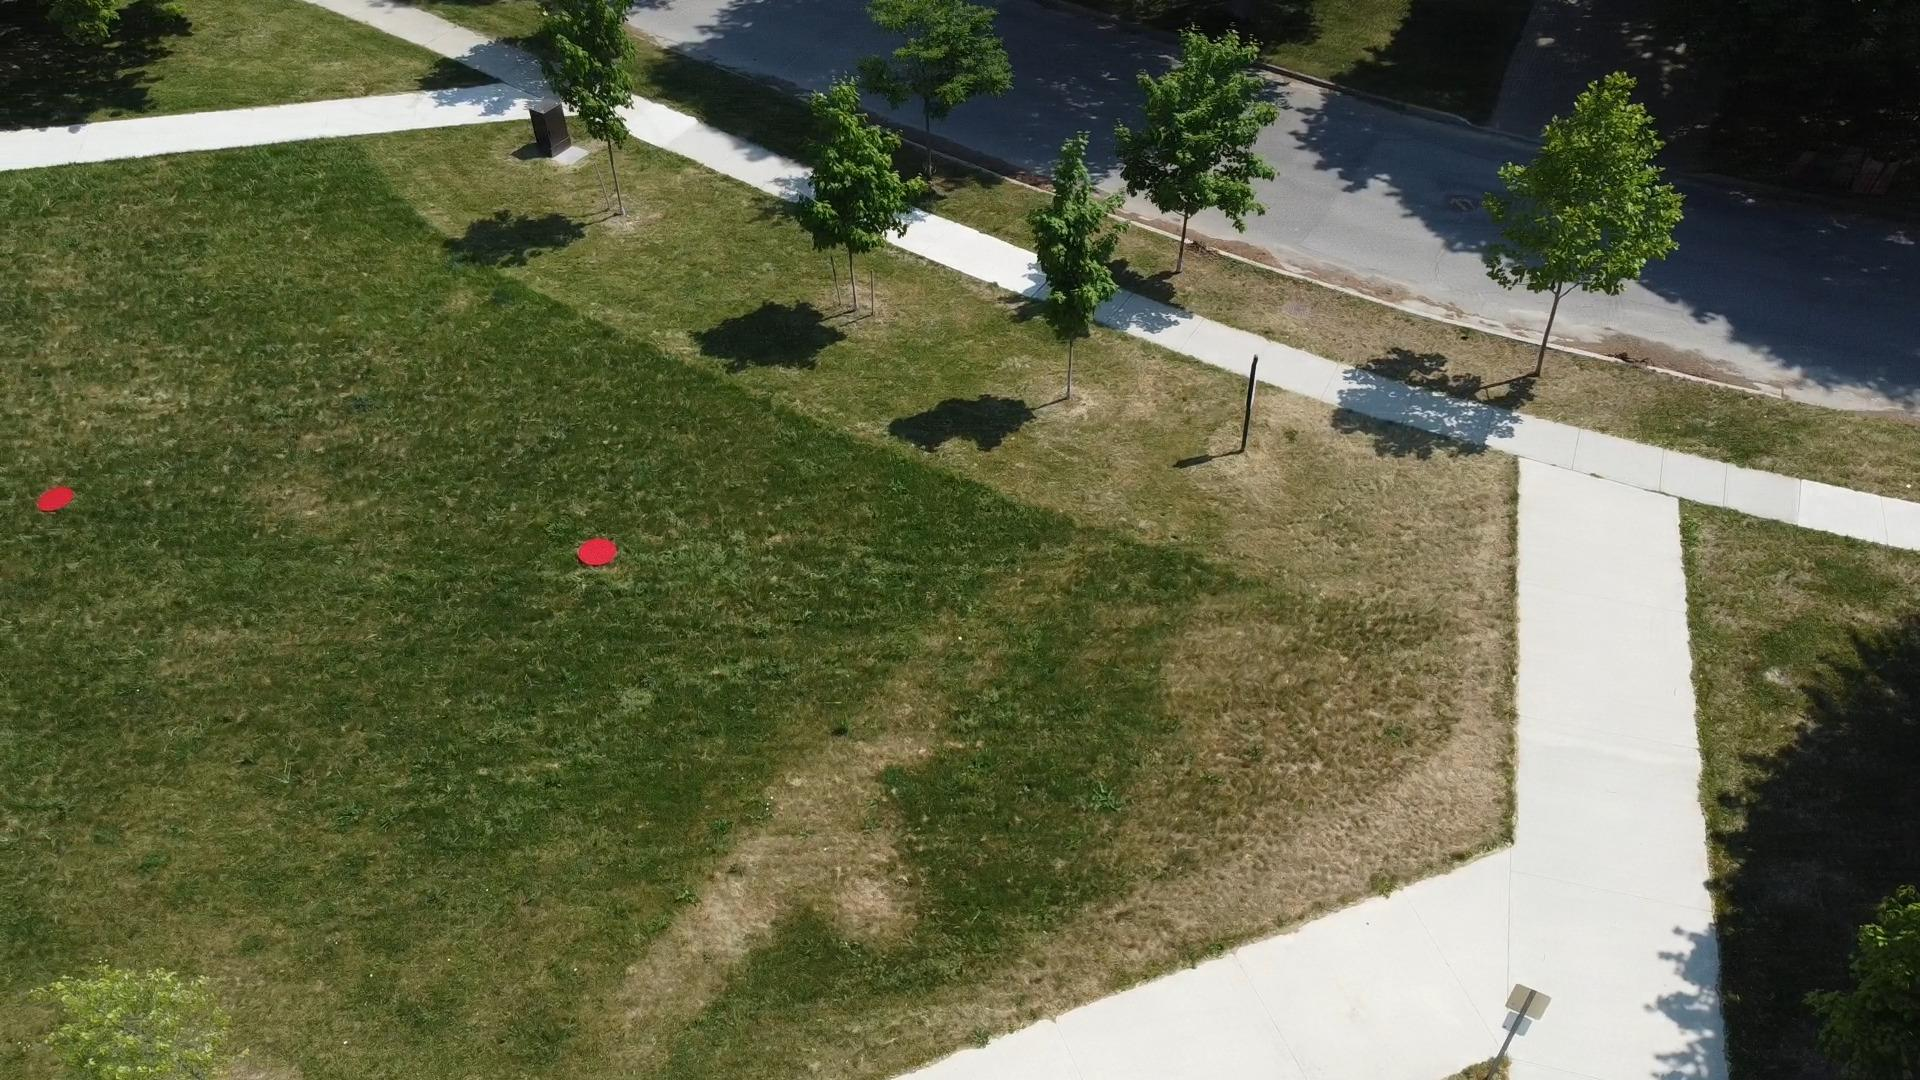Red: (576, 537, 618, 567), (37, 484, 76, 516)
